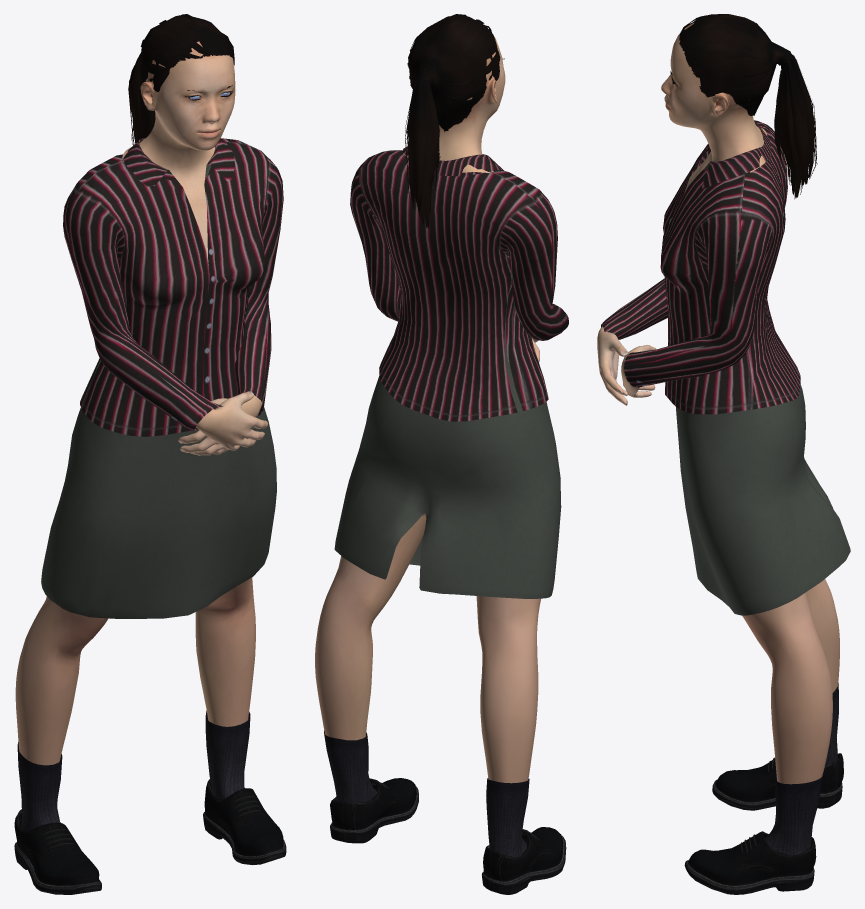
The model's file is mei-vendor.glb.
3 views of the same model, side by side, from view 1: azimuth 30°, elevation 25°; view 2: azimuth 150°, elevation 25°; view 3: azimuth 270°, elevation 25° (orthographic). The views are drawn at different scales.
Visible parts, largest first — view 1: receptionist_body.female_elegantsuit01, receptionist_body, receptionist_body.shoes03, receptionist_body.ponytail01; view 2: receptionist_body.female_elegantsuit01, receptionist_body, receptionist_body.shoes03, receptionist_body.ponytail01; view 3: receptionist_body.female_elegantsuit01, receptionist_body, receptionist_body.shoes03, receptionist_body.ponytail01.
Boxes of the visible parts, box(x1,y1,x2,y2) form: receptionist_body.female_elegantsuit01: box(41, 138, 283, 618); receptionist_body: box(15, 41, 268, 765); receptionist_body.shoes03: box(14, 710, 286, 894); receptionist_body.ponytail01: box(128, 14, 234, 145); receptionist_body.female_elegantsuit01: box(334, 146, 568, 598); receptionist_body: box(315, 33, 540, 783); receptionist_body.shoes03: box(324, 730, 566, 894); receptionist_body.ponytail01: box(405, 14, 500, 228); receptionist_body.female_elegantsuit01: box(601, 120, 850, 615); receptionist_body: box(597, 22, 839, 784); receptionist_body.shoes03: box(684, 682, 843, 894); receptionist_body.ponytail01: box(679, 14, 817, 199).
Bounding box in the file's own units: 0.4348 × 1.51 × 0.4174.
Materials: 8 (8 with a texture image).
